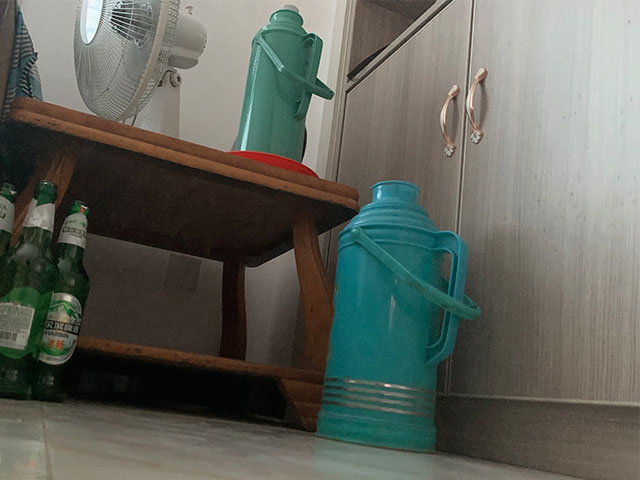cabinet: (292, 1, 640, 480)
table: (5, 95, 360, 434)
